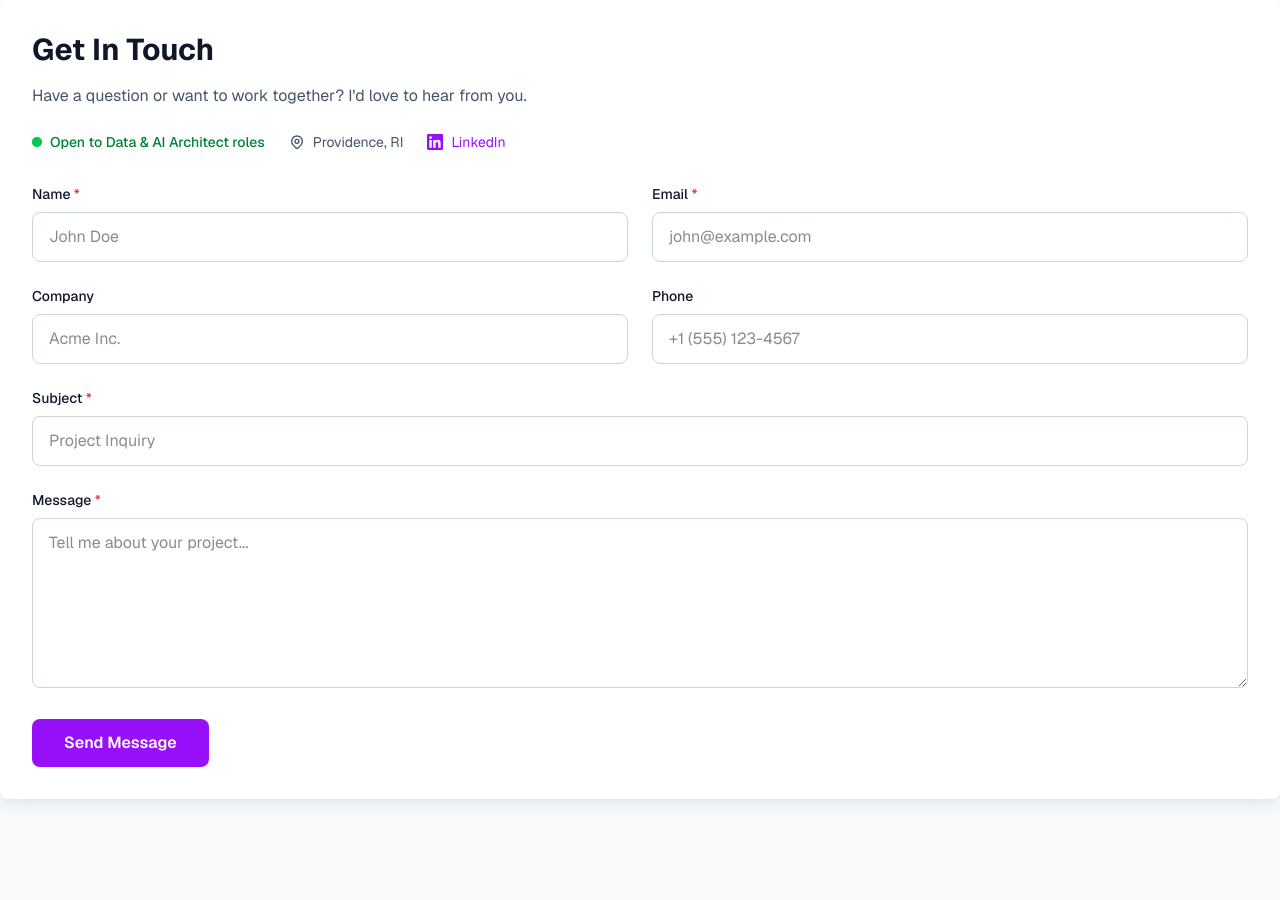
Scenario: ContactForm Component › should validate minimum length for subject
In the field labelled "Subject *": (640, 441) [32,416,1248,466], type "AB"
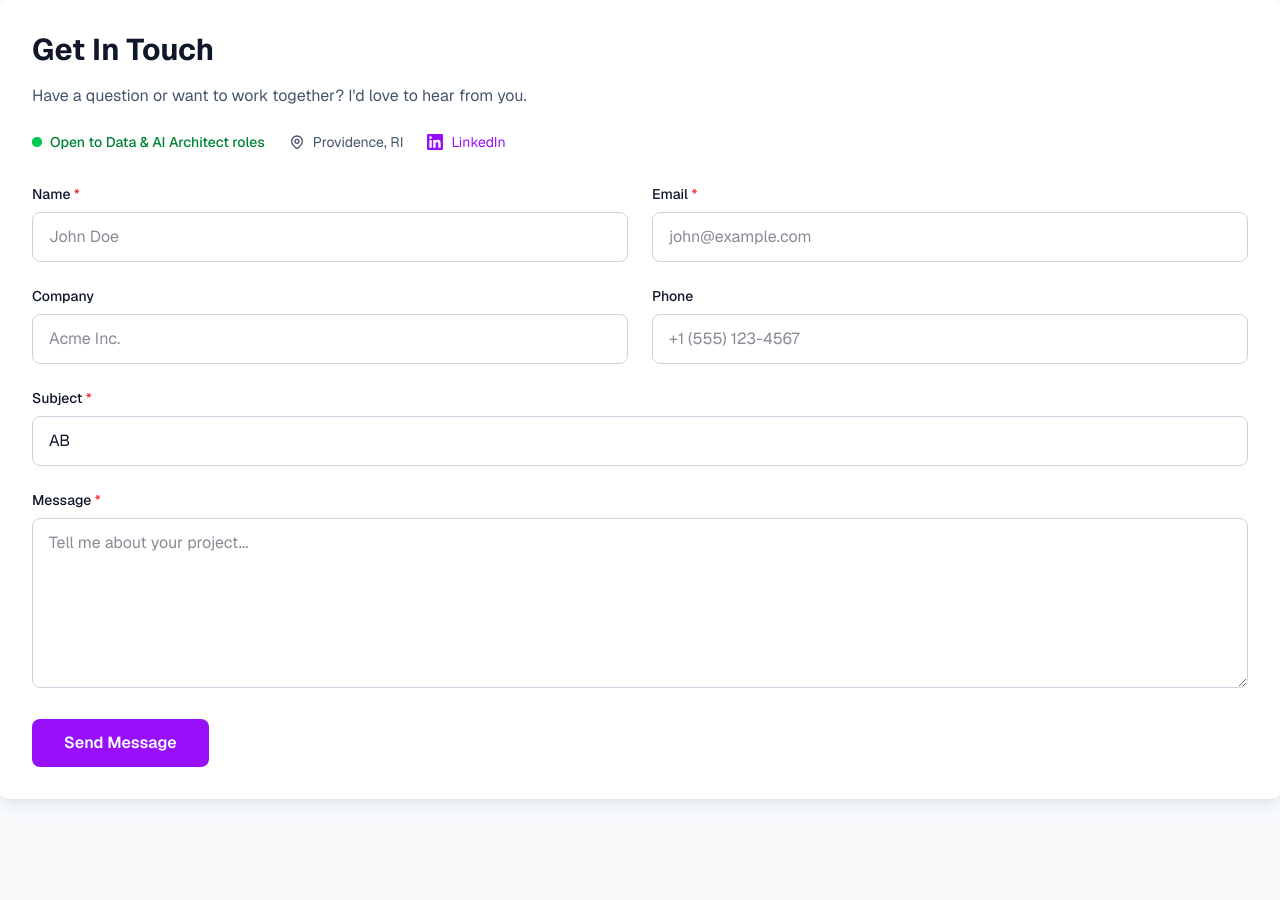
Click the button "Send Message": (120, 743) [32,719,209,767]
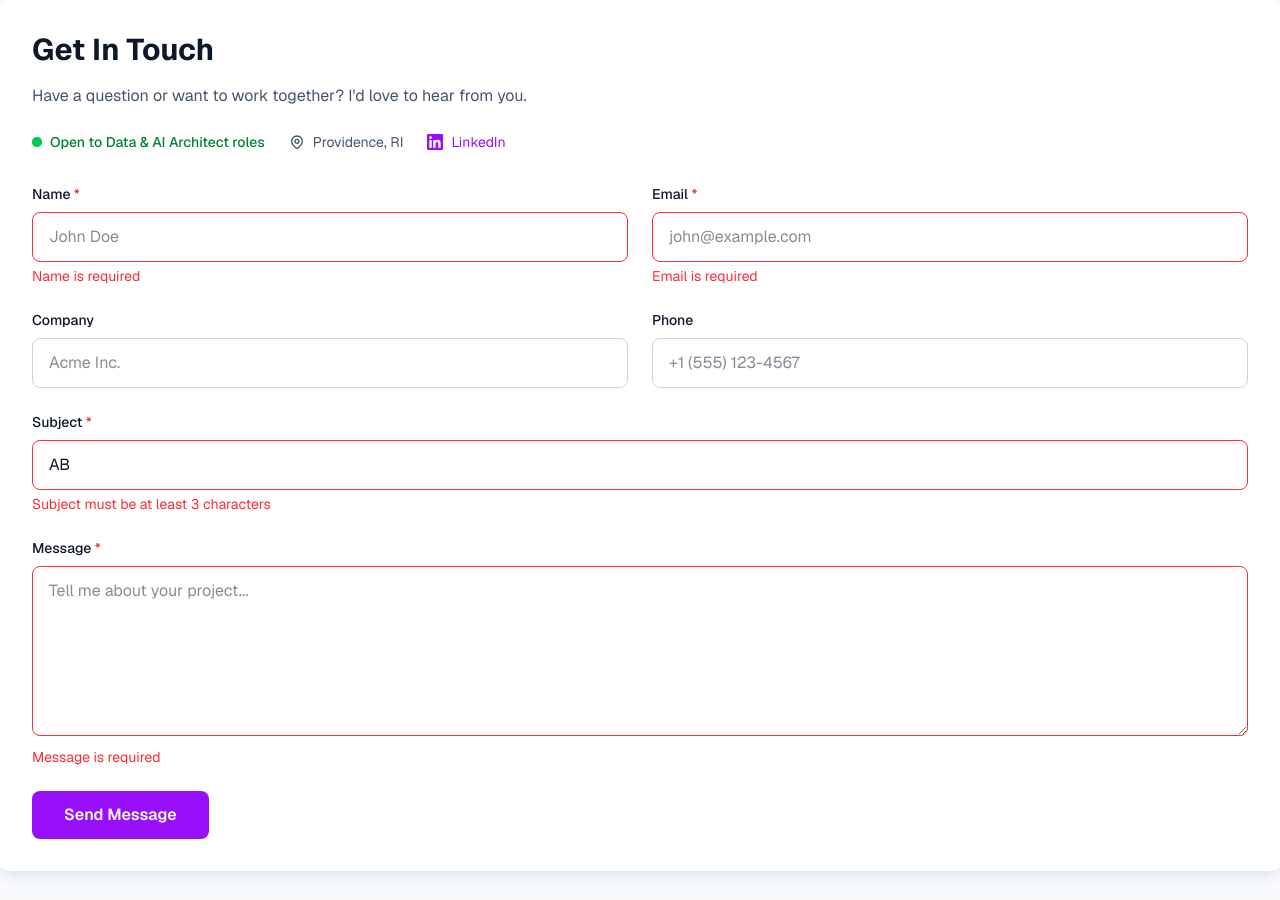
expect the text "Subject must be at least 3 characters" is shown: met, box [32,495,271,513]
